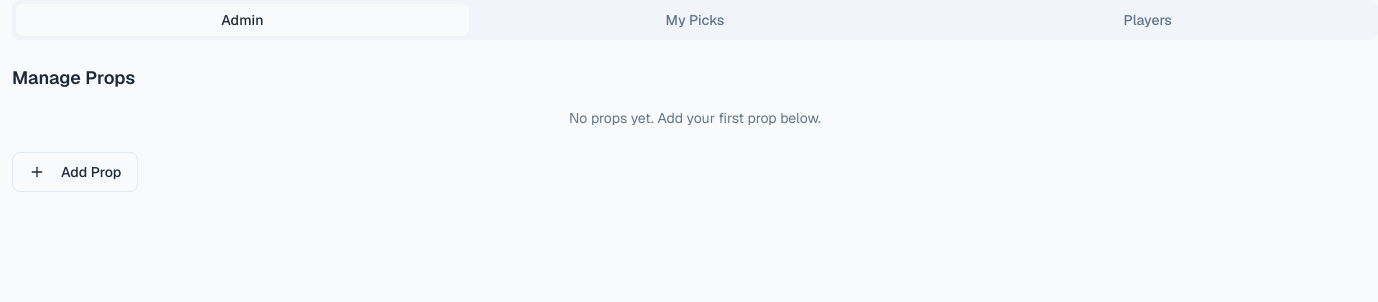
CaptainTabsClient › Players Tab › lazy loading › shows loading spinner while fetching
The image size is (1378, 302).
Click the tab "Players" at (1148, 20), box [921, 4, 1374, 36]
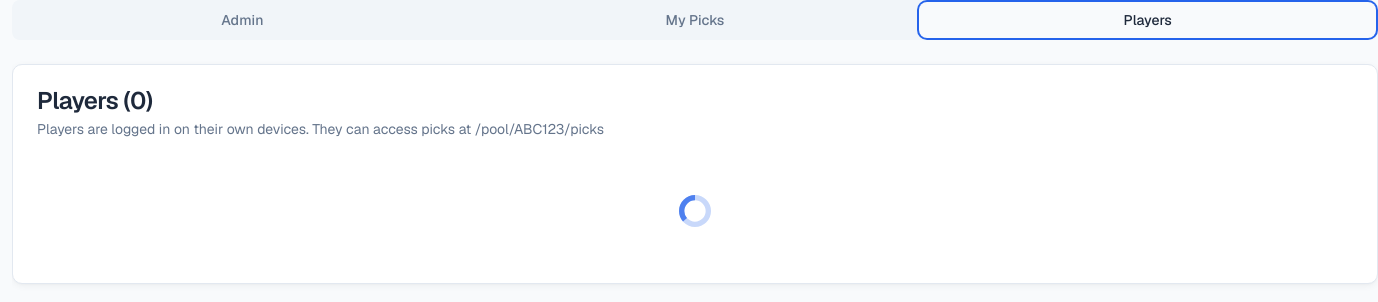
Now the message is shown, box [679, 195, 711, 227]
